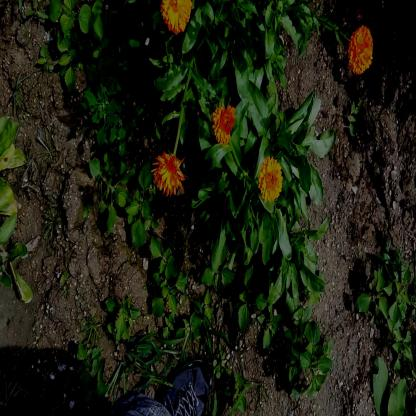marigold: (155, 148, 184, 192), (160, 0, 192, 36), (348, 27, 372, 72), (260, 157, 282, 202), (212, 103, 236, 142)
